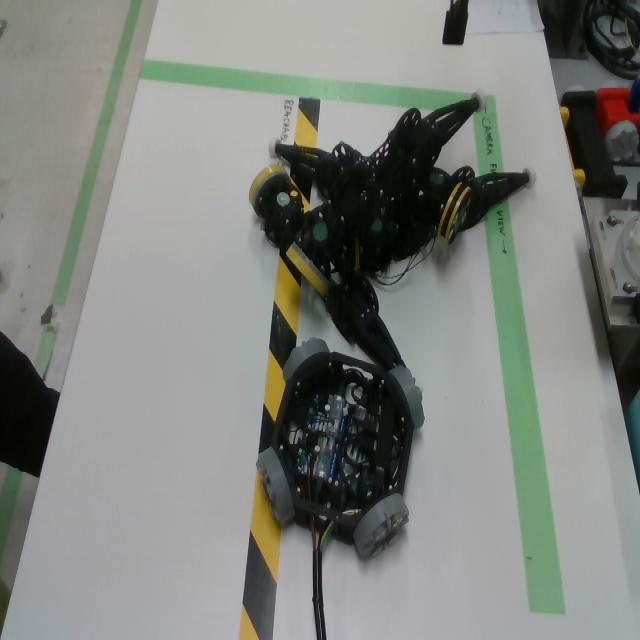body: (272, 352, 414, 547)
body_connector: (353, 493, 410, 561), (256, 447, 295, 523), (388, 365, 425, 432), (283, 339, 331, 381)
leg: (286, 88, 488, 297), (338, 203, 436, 282), (324, 279, 407, 371), (389, 167, 473, 244), (268, 137, 367, 200), (451, 165, 537, 233), (249, 164, 304, 244)
leg_connector: (249, 164, 293, 219), (286, 243, 330, 297), (438, 181, 472, 245), (340, 237, 363, 281)
leg_marker: (314, 221, 328, 240), (277, 192, 290, 207), (430, 173, 444, 185), (372, 219, 383, 231)
